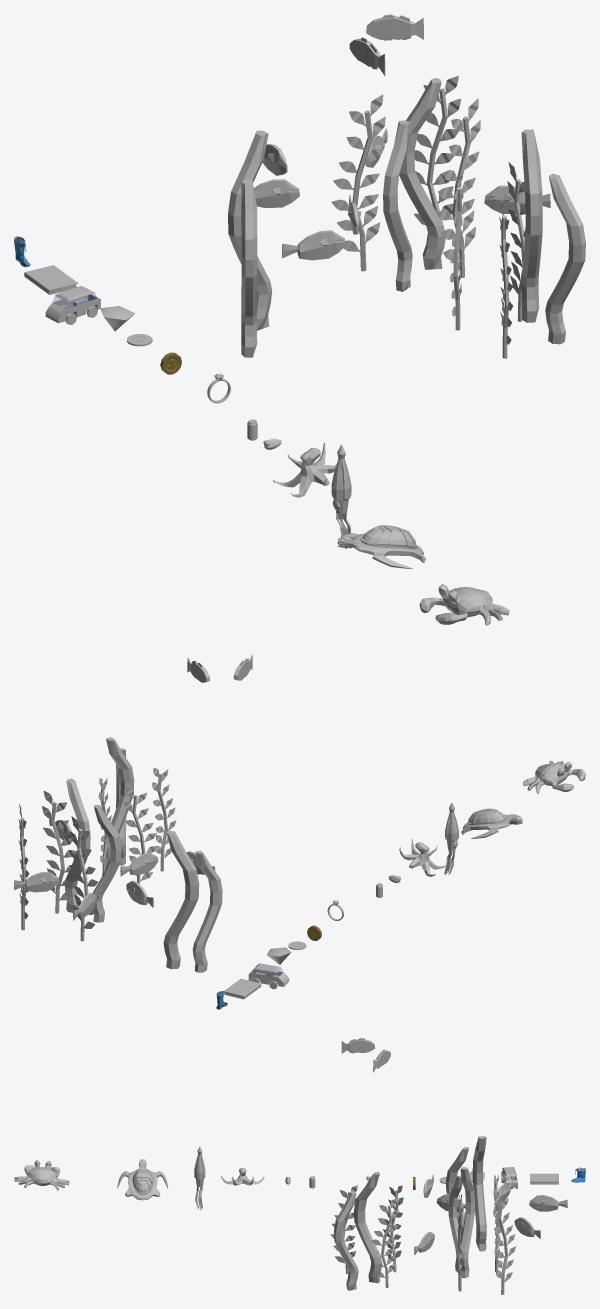
Rendered from EXTRA.fbx.
3 renders of one model, top to bottom at view 1: azimuth 30°, elevation 25°; view 2: azimuth 150°, elevation 25°; view 3: azimuth 270°, elevation 25°, orthographic. The views are drawn at different scales.
Visible parts, largest first — view 1: Plane_018, Plane_016, Plane_019, Plane_025, Plane_017, TURTLE, CRAB, CAR, OCOTO, Plane_066, TENT, Plane_080 (+4 smaller); view 2: Plane_025, Plane_018, Plane_019, Plane_017, Plane_016, CRAB, TURTLE, CAR, OCOTO, TENT, Plane_068, Plane_070 (+1 smaller); view 3: Plane_016, Plane_017, Plane_025, Plane_019, Plane_018, TURTLE, CRAB, TENT, Plane, Plane_079, BOOK.
Part boxes in pixels (x1,y1,x2,y2): Plane_018: (331, 76, 480, 277); Plane_016: (521, 129, 585, 344); Plane_019: (383, 78, 445, 291); Plane_025: (228, 130, 272, 357); Plane_017: (450, 162, 525, 358); TURTLE: (337, 525, 426, 568); CRAB: (419, 584, 509, 625); CAR: (45, 286, 100, 324); OCOTO: (273, 442, 336, 497); Plane_066: (282, 230, 345, 260); TENT: (331, 444, 351, 548); Plane_080: (366, 14, 423, 40); Plane_025: (163, 830, 222, 972); Plane_018: (18, 790, 99, 941); Plane_019: (64, 778, 121, 922); Plane_017: (98, 768, 176, 884); Plane_016: (103, 737, 134, 868); CRAB: (523, 760, 585, 793); TURTLE: (461, 808, 522, 838); CAR: (248, 963, 289, 989); OCOTO: (399, 839, 448, 876); TENT: (444, 802, 458, 874); Plane_068: (14, 871, 59, 892); Plane_070: (120, 852, 158, 876); Plane_016: (334, 1171, 382, 1290); Plane_017: (330, 1185, 403, 1287); Plane_025: (446, 1136, 486, 1251); Plane_019: (448, 1167, 474, 1278); Plane_018: (457, 1175, 515, 1294); TURTLE: (117, 1159, 168, 1200); CRAB: (14, 1160, 69, 1190); TENT: (194, 1146, 205, 1210); Plane: (529, 1195, 567, 1211); Plane_079: (341, 1038, 375, 1053); BOOK: (530, 1173, 558, 1184).
Bounding box in the file's own units: 41.01 × 32.8 × 78.11.
19 materials, 2 textured.
